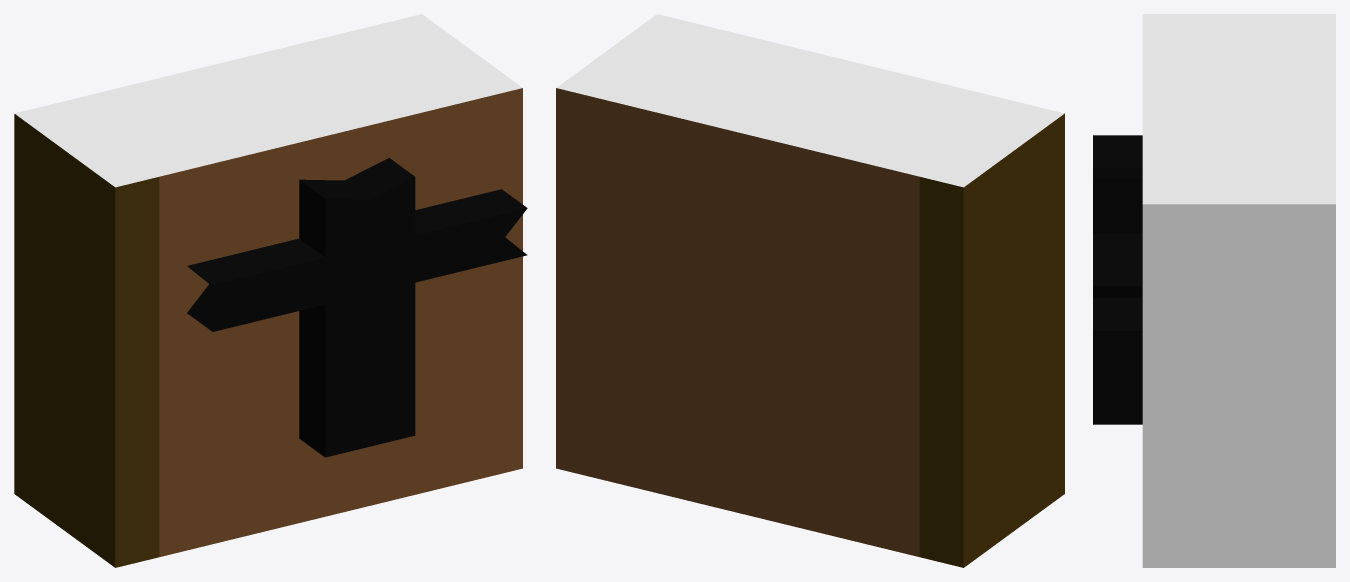
File: HolyBook.fbx
3 renders of one model, left to right at view 1: azimuth 30°, elevation 25°; view 2: azimuth 150°, elevation 25°; view 3: azimuth 270°, elevation 25°, orthographic. The views are drawn at different scales.
Parts seen in each view (by area): view 1: Book, Cross; view 2: Book; view 3: Book, Cross.
Boxes of the visible parts, left/top/right/bottom form: Book: left=14, top=14, right=522, bottom=567; Cross: left=187, top=158, right=527, bottom=457; Book: left=556, top=14, right=1064, bottom=567; Book: left=1142, top=14, right=1335, bottom=567; Cross: left=1093, top=135, right=1142, bottom=424.
Size of the model in its own units: 44.84 by 40 by 24.21.
